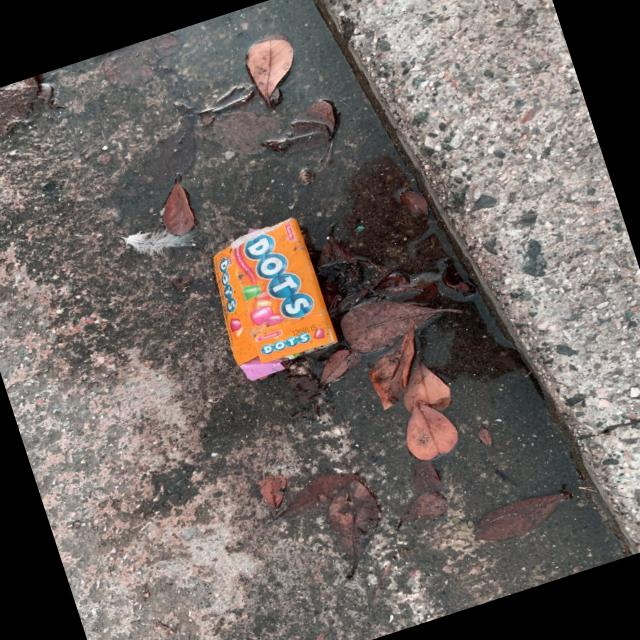less trash: (213, 218, 337, 380)
